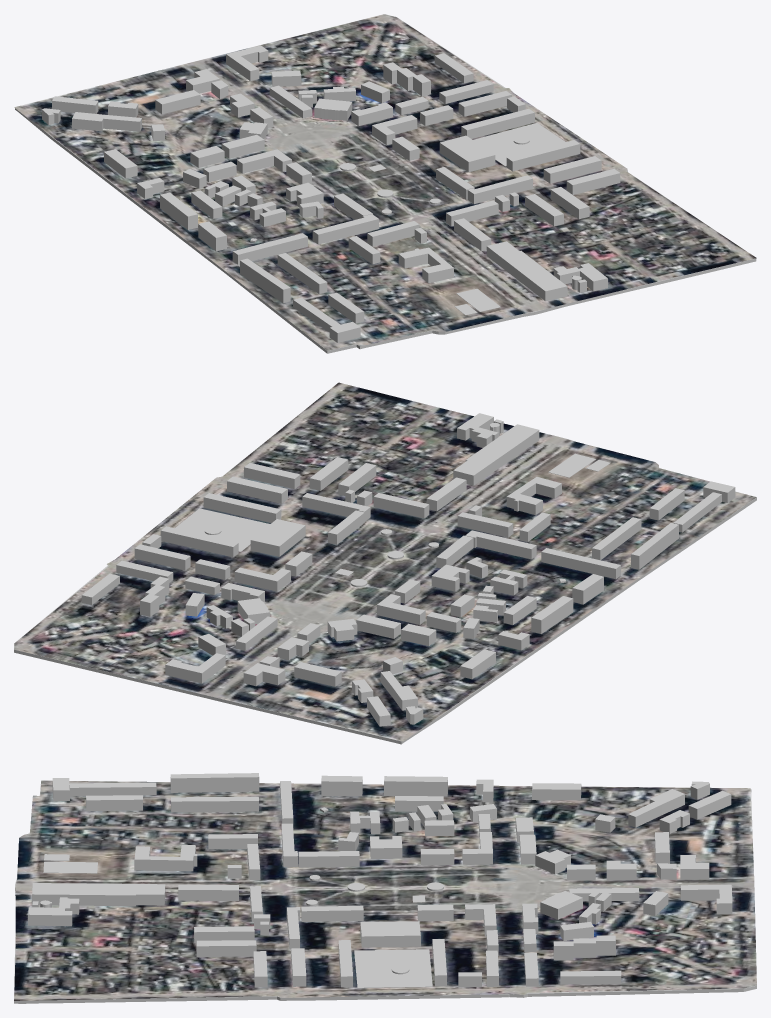
Rendered from sobor.glb.
The picture shows the model from 3 angles, top to bottom: view 1: azimuth 30°, elevation 25°; view 2: azimuth 150°, elevation 25°; view 3: azimuth 270°, elevation 25°; orthographic projection. The views are drawn at different scales.
Parts seen in each view (by area): view 1: EXPORT_GOOGLE_SAT_WM, Areas:building, Areas:leisure, Plane; view 2: EXPORT_GOOGLE_SAT_WM, Areas:building, Areas:leisure, Plane; view 3: EXPORT_GOOGLE_SAT_WM, Areas:building, Areas:leisure, Plane, Ways:highway.
Boxes of the visible parts, x1,y1,x2,y2 form: EXPORT_GOOGLE_SAT_WM: [14, 14, 756, 350]; Areas:building: [42, 45, 620, 342]; Areas:leisure: [368, 123, 565, 315]; Plane: [15, 17, 756, 353]; EXPORT_GOOGLE_SAT_WM: [14, 382, 756, 741]; Areas:building: [81, 413, 735, 726]; Areas:leisure: [175, 453, 610, 576]; Plane: [14, 402, 756, 744]; EXPORT_GOOGLE_SAT_WM: [14, 780, 756, 1000]; Areas:building: [28, 773, 732, 987]; Areas:leisure: [43, 854, 432, 988]; Plane: [14, 784, 756, 1003]; Ways:highway: [306, 875, 443, 974].
Bounding box in the file's own units: 877 × 33.11 × 1250.
2 materials, 1 textured.
